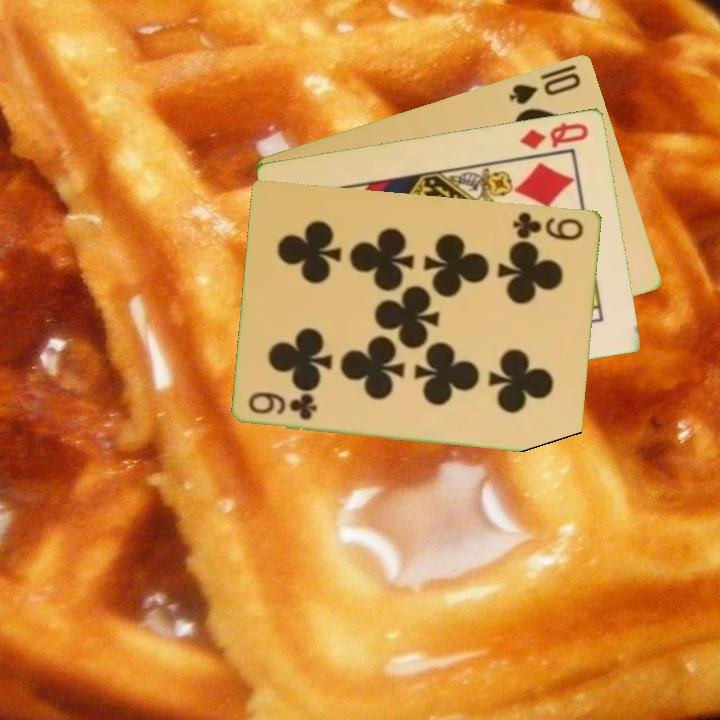10s: (505, 68, 584, 107)
9c: (509, 208, 587, 243), (245, 388, 320, 423)
Qd: (517, 118, 592, 152)
